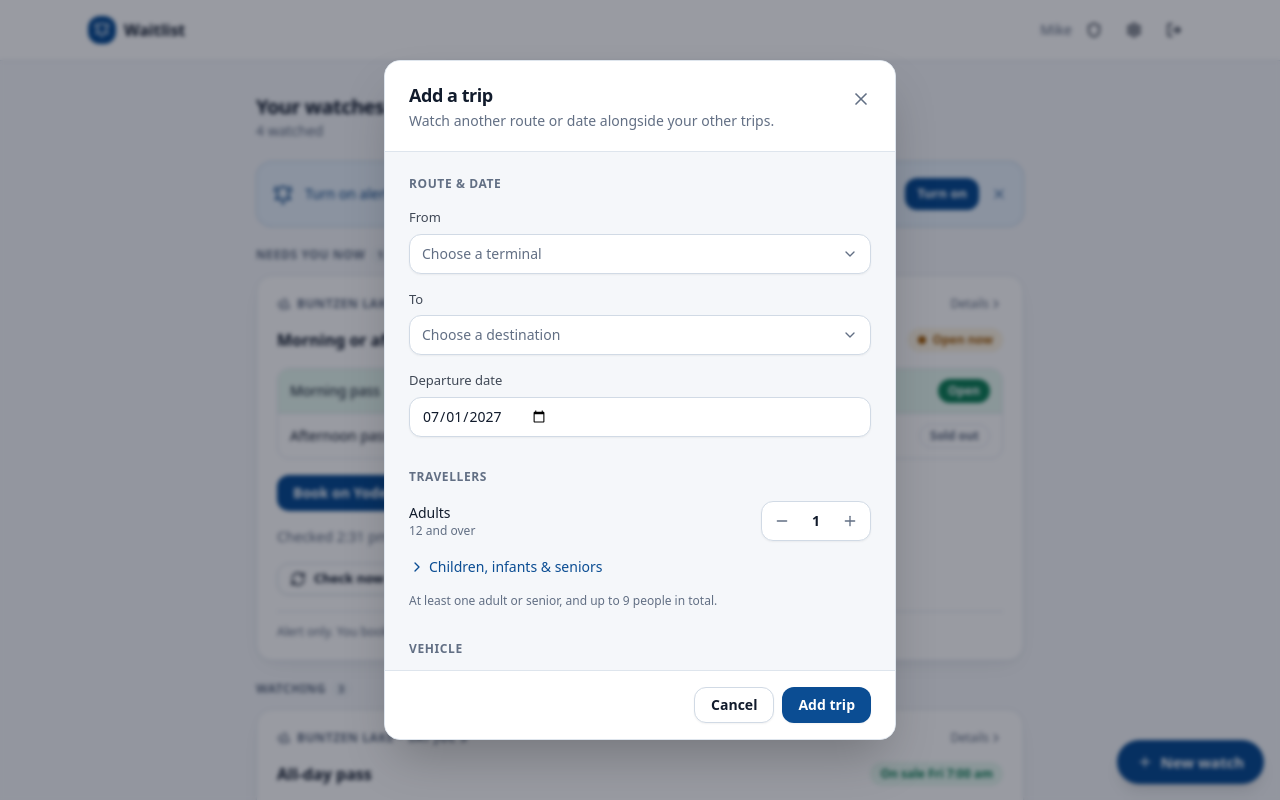
Test: the BC Ferries form in the New watch sheet › is the trip form, and adds through POST /api/watches with enabled beside the spec
Click the dropdown named "From" at point(482, 253), box [409,234,871,274]
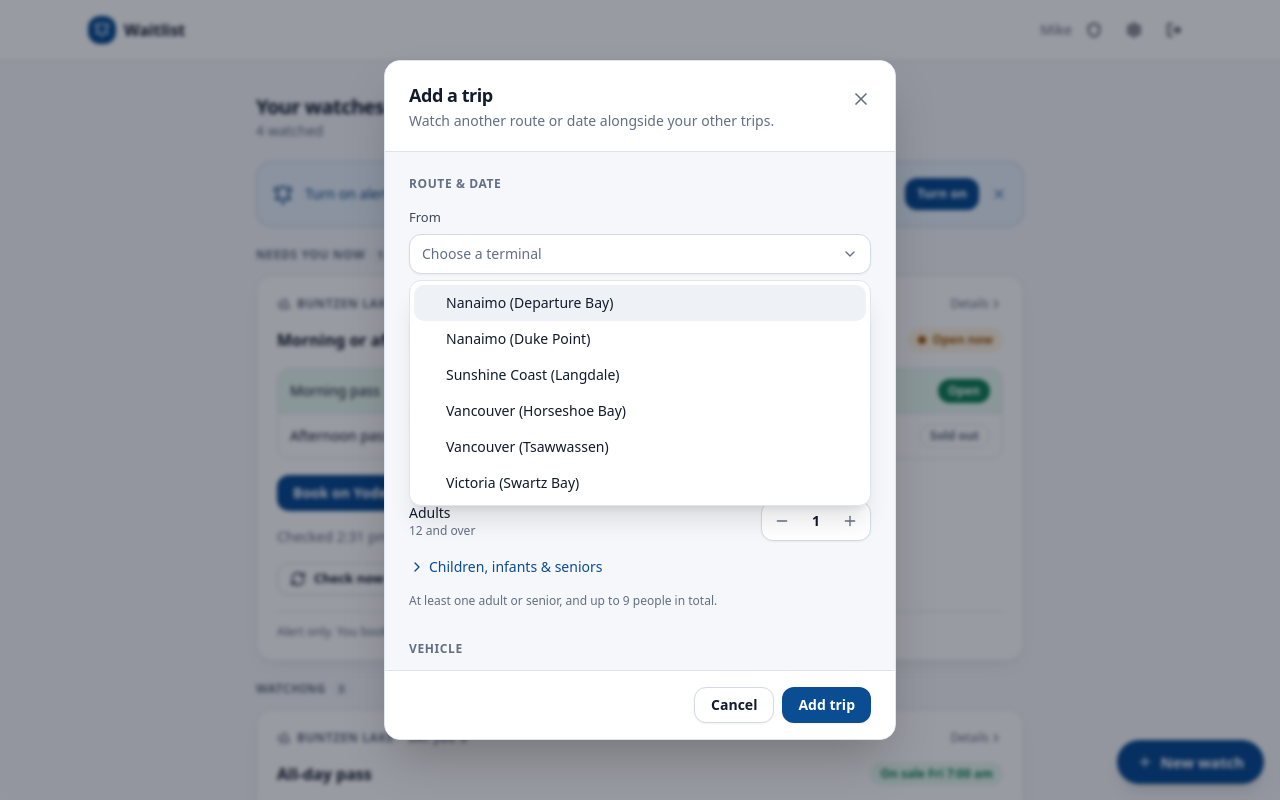
Click the option "Vancouver (Tsawwassen)" at point(527, 446), box [446,437,609,456]
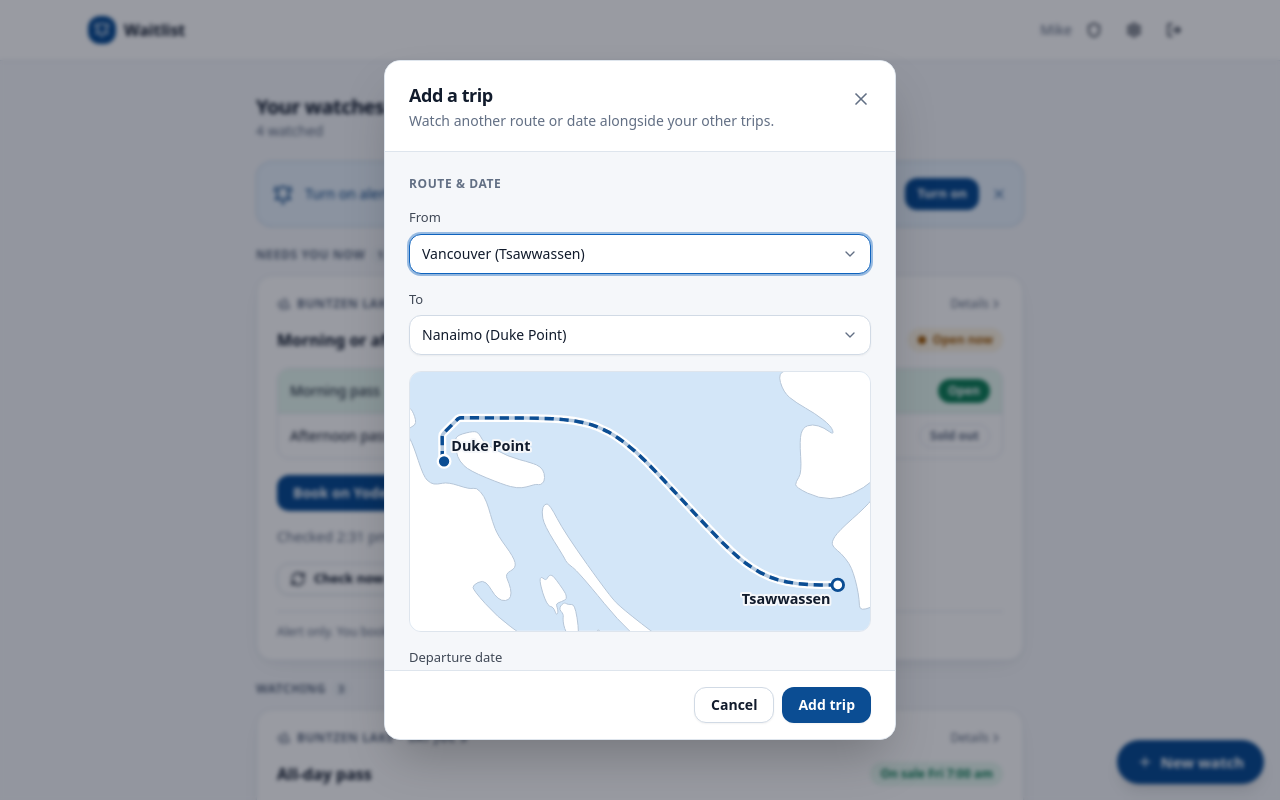
Check: the dropdown named "To" reads "Nanaimo (Duke Point)", box [409,315,871,355]
Click the button "Add trip" at point(827, 705), box [782,687,871,723]
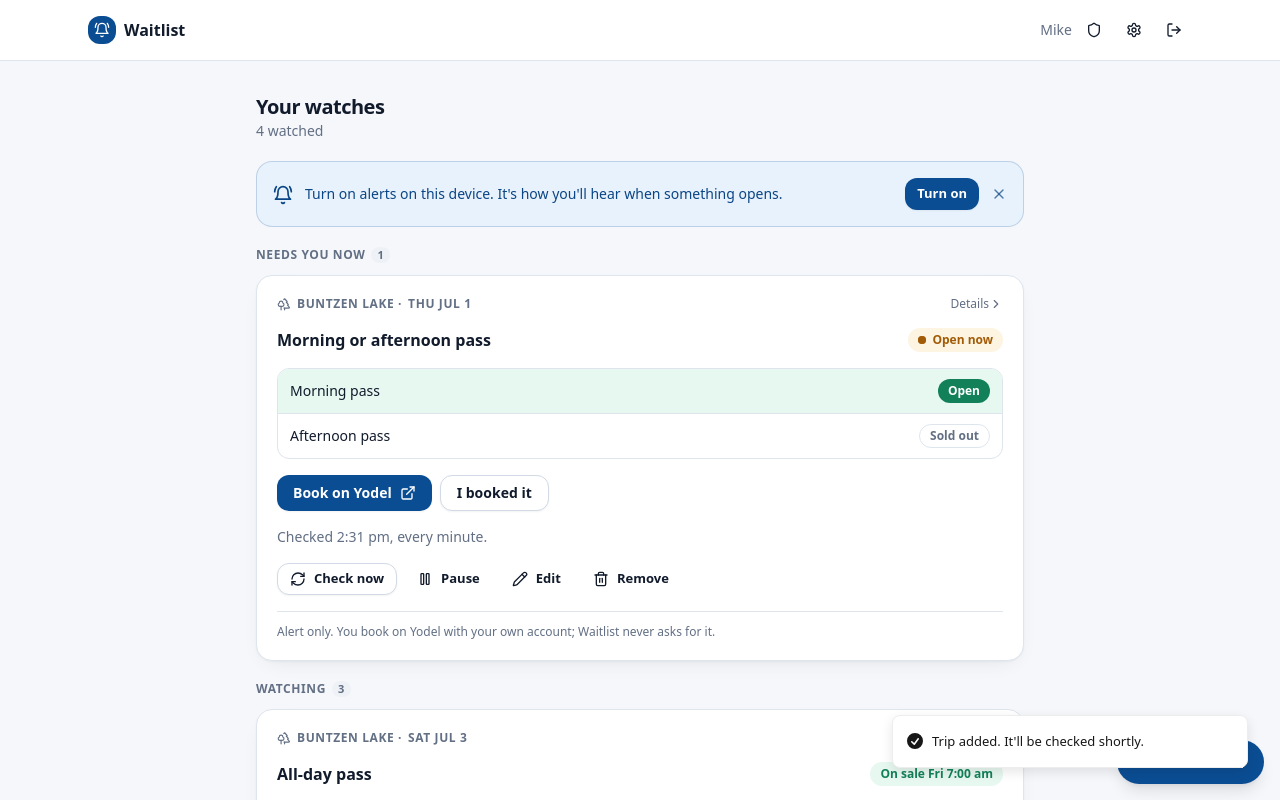
Check: the text "Trip added. It'll be checked shortly." is shown, box [932,732,1144,751]
Check: the dialog is gone
